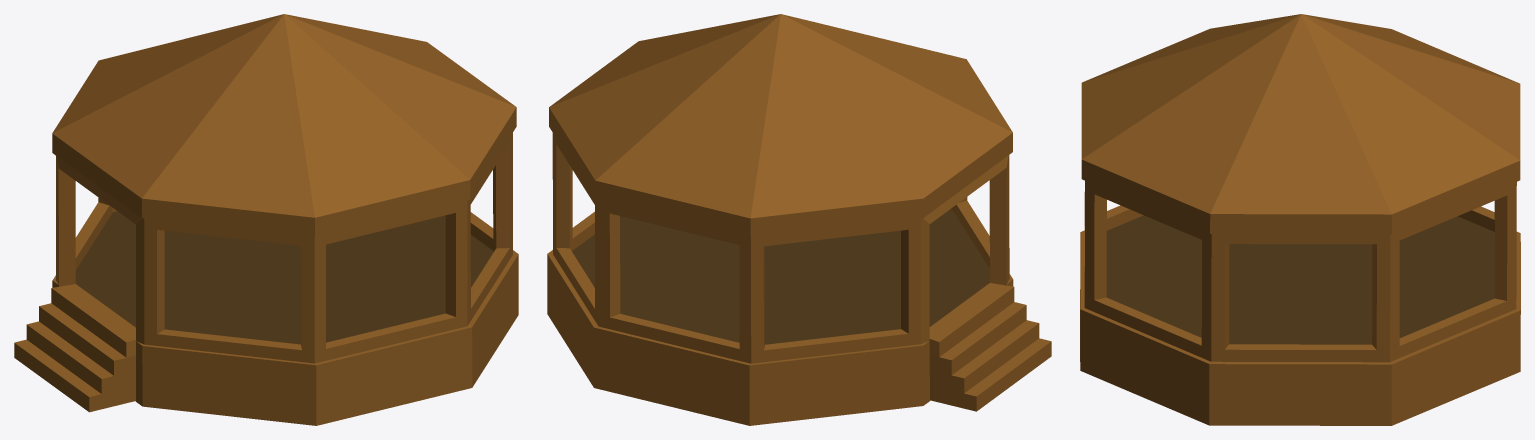
Rendered from gazebo.fbx.
The picture shows the model from 3 angles, left to right: view 1: azimuth 30°, elevation 25°; view 2: azimuth 150°, elevation 25°; view 3: azimuth 270°, elevation 25°; orthographic projection.
Visible parts, largest first — view 1: Cone; view 2: Cone; view 3: Cone.
Boxes of the visible parts, x1,y1,x2,y2 form: Cone: (14, 14, 518, 425); Cone: (547, 14, 1051, 425); Cone: (1080, 14, 1520, 425).
Size of the model in its own units: 213 by 151 by 190.
